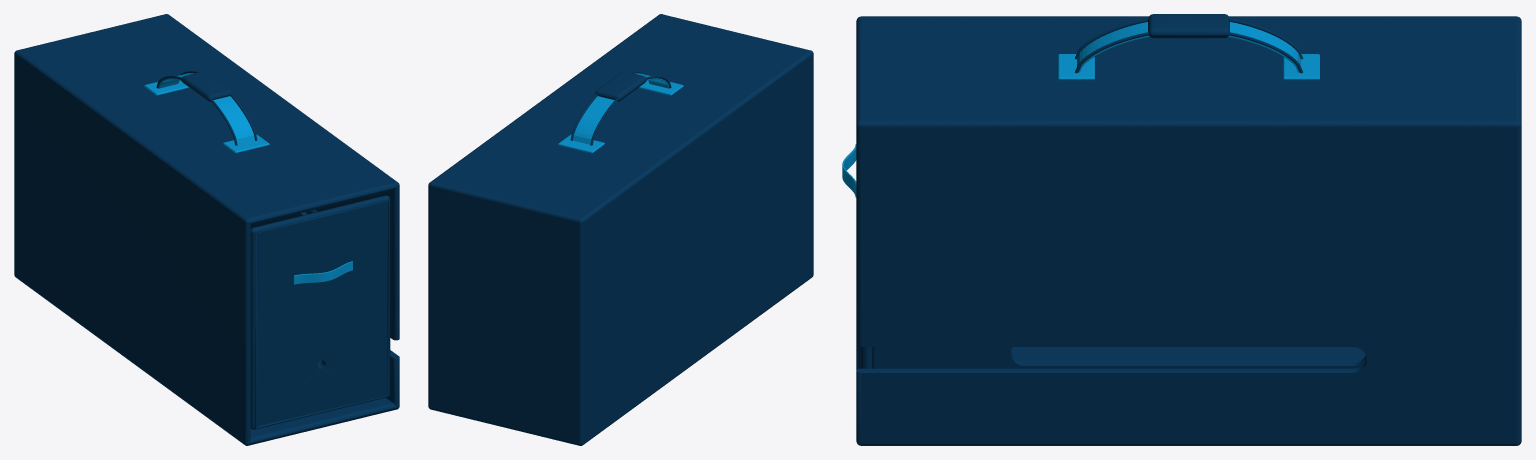
File: belt-volume-2-storage.glb
3 renders of one model, left to right at view 1: azimuth 30°, elevation 25°; view 2: azimuth 150°, elevation 25°; view 3: azimuth 270°, elevation 25°, orthographic. The views are drawn at different scales.
Visible parts, largest first — view 1: Cabinet_side, Cabinet_top, Drawer_front, Cabinet_side.001, Cabinet_bottom, Front_sewn_edge, Carry_handle_webbing, Carry_handle_padded_grip, Drawer_webbing_pull, Cabinet_back, Carry_handle_anchor; view 2: Cabinet_side, Cabinet_back, Cabinet_top, Carry_handle_webbing, Carry_handle_padded_grip, Cabinet_side.001, Carry_handle_anchor.001; view 3: Cabinet_side.001, Cabinet_top, Cabinet_bottom, Drawer_side.001, Carry_handle_padded_grip, Cabinet_back, Carry_handle_webbing, Carry_handle_anchor, Carry_handle_anchor.001, Carry_handle_binding.001.
Part boxes in pixels (bbox=[...]): Cabinet_side: bbox=[15, 50, 250, 445]; Cabinet_top: bbox=[15, 14, 397, 224]; Drawer_front: bbox=[250, 195, 390, 429]; Cabinet_side.001: bbox=[166, 14, 399, 409]; Cabinet_bottom: bbox=[15, 275, 397, 445]; Front_sewn_edge: bbox=[255, 200, 389, 428]; Carry_handle_webbing: bbox=[158, 73, 254, 144]; Carry_handle_padded_grip: bbox=[181, 71, 232, 101]; Drawer_webbing_pull: bbox=[293, 261, 352, 284]; Cabinet_back: bbox=[14, 14, 166, 275]; Carry_handle_anchor: bbox=[223, 134, 269, 153]; Cabinet_side: bbox=[579, 50, 813, 445]; Cabinet_back: bbox=[428, 182, 583, 445]; Cabinet_top: bbox=[432, 14, 812, 218]; Carry_handle_webbing: bbox=[573, 73, 669, 144]; Carry_handle_padded_grip: bbox=[595, 71, 646, 101]; Cabinet_side.001: bbox=[428, 14, 661, 409]; Carry_handle_anchor.001: bbox=[558, 134, 604, 153]; Cabinet_side.001: bbox=[856, 120, 1521, 445]; Cabinet_top: bbox=[856, 17, 1516, 128]; Cabinet_bottom: bbox=[856, 345, 1515, 442]; Drawer_side.001: bbox=[872, 347, 1366, 368]; Carry_handle_padded_grip: bbox=[1148, 14, 1229, 38]; Cabinet_back: bbox=[1516, 16, 1521, 445]; Carry_handle_webbing: bbox=[1077, 22, 1300, 72]; Carry_handle_anchor: bbox=[1058, 54, 1094, 80]; Carry_handle_anchor.001: bbox=[1283, 54, 1319, 80]; Carry_handle_binding.001: bbox=[1075, 32, 1302, 73].
Size of what is drawn, in the model's own units: 0.127 by 0.204 by 0.3372.
Materials: 3 (3 with a texture image).
